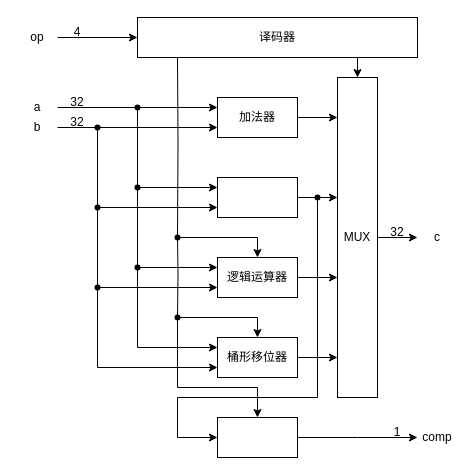
The diagram is 474 pixels wide and 475 high, and some of its shapes have lost their labels. Here are the shapes that lost their labels. From the top down, the centre of each, then its label:
At (257,197): "减法器".
At (257,437): "比较器".
